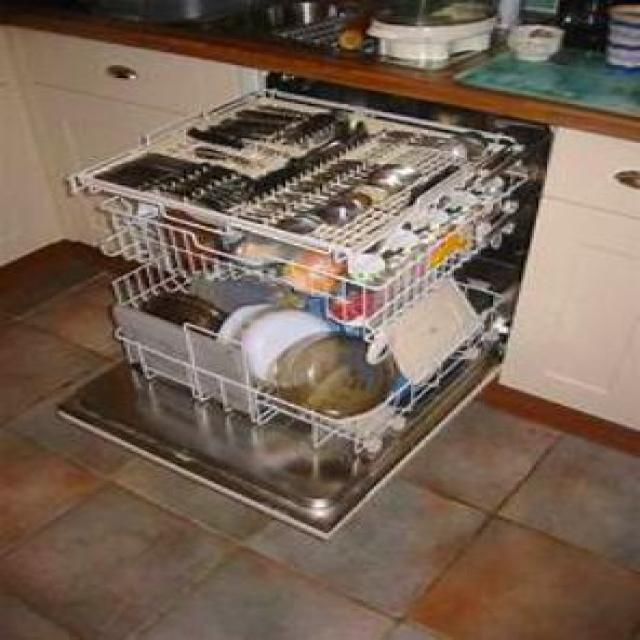dishwasher: (44, 70, 552, 539)
